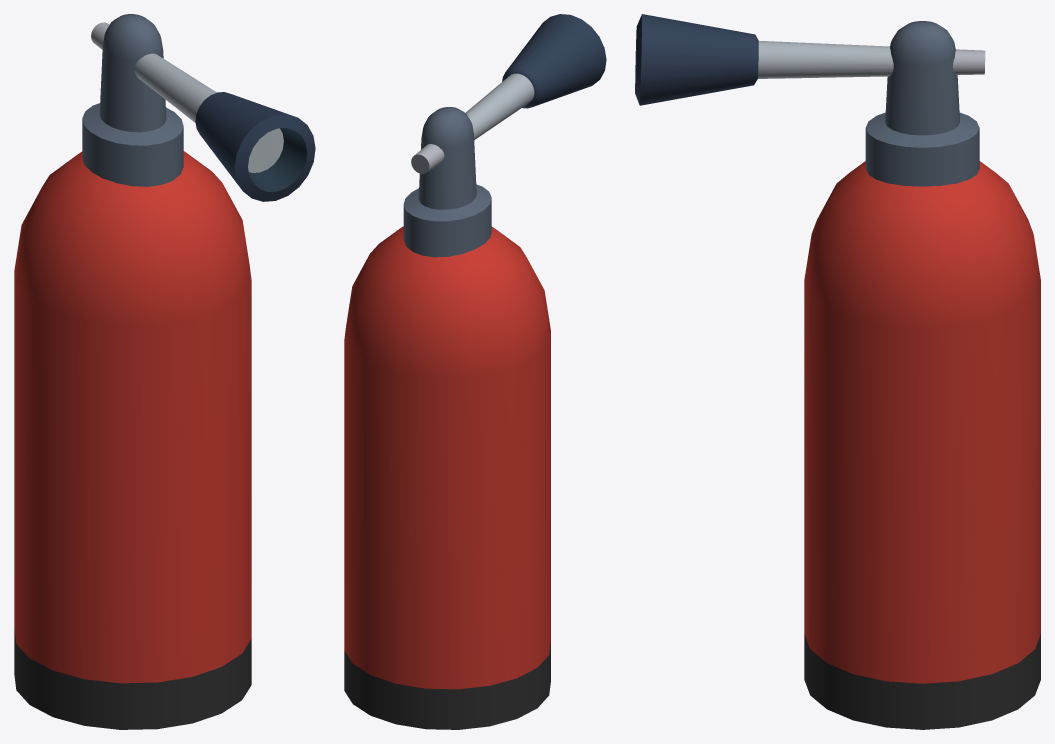
The model's file is Fire_Extinguisher.fbx.
3 views of the same model, side by side, from view 1: azimuth 30°, elevation 25°; view 2: azimuth 150°, elevation 25°; view 3: azimuth 270°, elevation 25° (orthographic). The views are drawn at different scales.
Visible parts, largest first — view 1: Fire_extinguisher; view 2: Fire_extinguisher; view 3: Fire_extinguisher.
Part boxes in pixels (<box>): Fire_extinguisher: <box>14,14,315,729</box>; Fire_extinguisher: <box>344,14,606,729</box>; Fire_extinguisher: <box>635,14,1040,729</box>.
Bounding box in the file's own units: 44.96 × 139 × 77.16.
